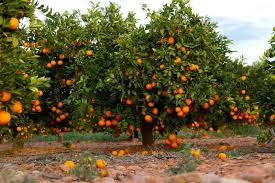orange: (7, 17, 18, 29), (145, 114, 152, 125)
